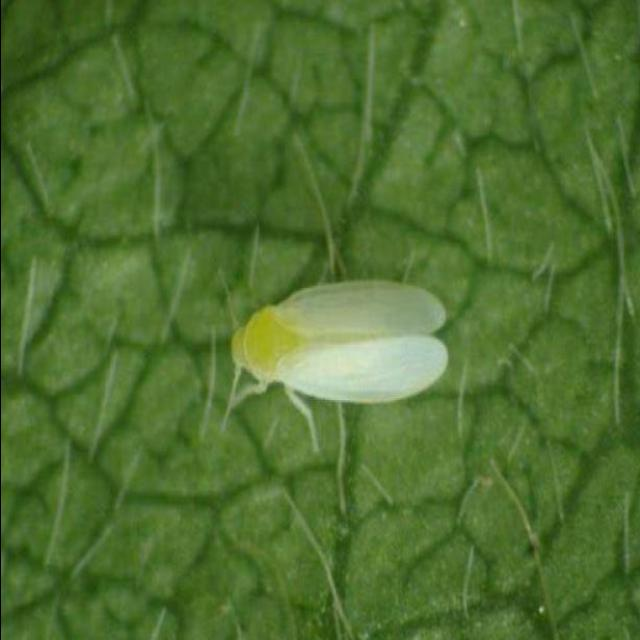Whitefly: (209, 257, 459, 467)
